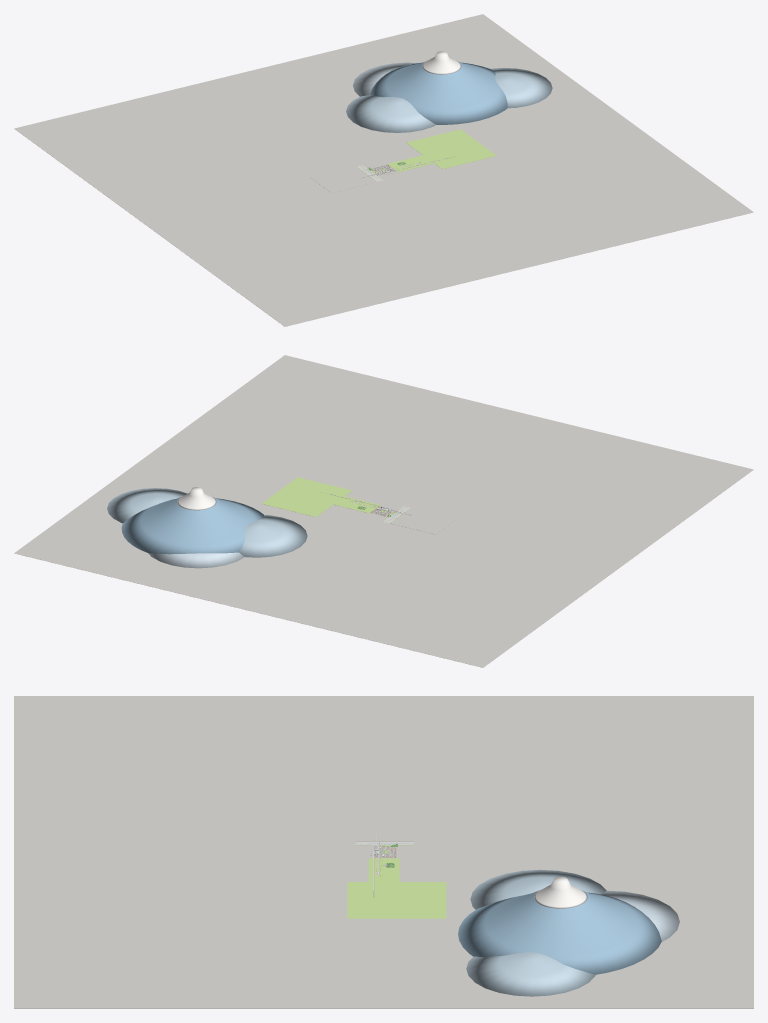
File: stage.glb
The picture shows the model from 3 angles, top to bottom: view 1: azimuth 30°, elevation 25°; view 2: azimuth 150°, elevation 25°; view 3: azimuth 270°, elevation 25°; orthographic projection. The views are drawn at different scales.
Visible parts, largest first — view 1: 遠景の地面, 富士山, 富士の前の山-2000, 東の野の奥, 富士の前の山2000, 対岸, 富士の前の山-700, 富士山の雪; view 2: 遠景の地面, 富士山, 富士の前の山-2000, 東の野の奥, 富士の前の山2000, 富士の前の山-700, 対岸, 富士山の雪; view 3: 遠景の地面, 富士山, 富士の前の山2000, 東の野の奥, 富士の前の山-2000, 対岸, 富士の前の山-700, 富士山の雪, 東の野.
Boxes of the visible parts, x1,y1,x2,y2 form: 遠景の地面: (14, 14, 753, 326); 富士山: (370, 61, 507, 124); 富士の前の山-2000: (346, 95, 436, 132); 東の野の奥: (406, 129, 496, 169); 富士の前の山2000: (490, 68, 552, 108); 対岸: (311, 166, 376, 192); 富士の前の山-700: (353, 62, 416, 96); 富士山の雪: (422, 51, 461, 74); 遠景の地面: (14, 355, 753, 667); 富士山: (121, 497, 263, 554); 富士の前の山-2000: (239, 515, 307, 557); 東の野の奥: (262, 477, 352, 516); 富士の前の山2000: (107, 488, 187, 523); 富士の前の山-700: (148, 552, 244, 568); 対岸: (390, 508, 456, 534); 富士山の雪: (177, 487, 216, 510); 遠景の地面: (14, 696, 753, 1008); 富士山: (458, 890, 661, 974); 富士の前の山2000: (466, 952, 595, 996); 東の野の奥: (347, 882, 446, 918); 富士の前の山-2000: (470, 869, 606, 909); 対岸: (355, 810, 413, 841); 富士の前の山-700: (601, 890, 679, 941); 富士山の雪: (534, 877, 587, 908); 東の野: (368, 858, 399, 881).
Size of the model in its own units: 18000 by 1533 by 18000.
